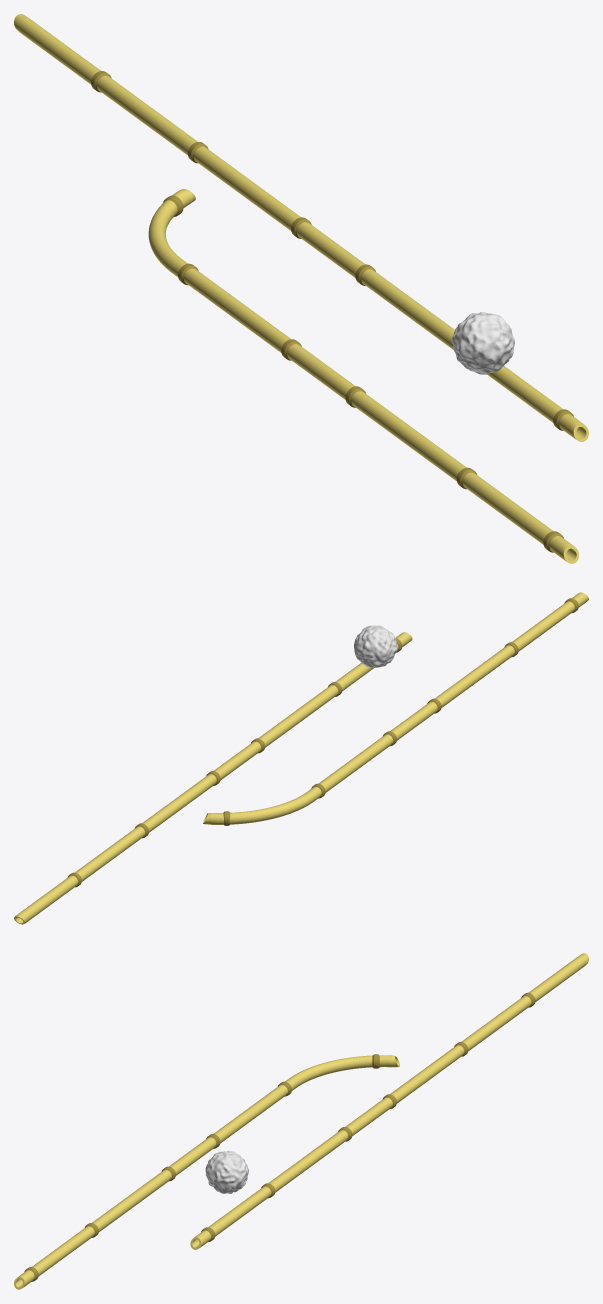
File: Rails.fbx
3 renders of one model, top to bottom at view 1: azimuth 30°, elevation 25°; view 2: azimuth 150°, elevation 25°; view 3: azimuth 330°, elevation 25°, orthographic. The views are drawn at different scales.
Parts seen in each view (by area): view 1: Cylinder, Cylinder.007, Boulder; view 2: Cylinder, Cylinder.007, Boulder; view 3: Cylinder, Cylinder.007, Boulder.
Boxes of the visible parts, x1,y1,x2,y2 form: Cylinder: [14, 14, 588, 441]; Cylinder.007: [148, 189, 578, 563]; Boulder: [451, 312, 514, 374]; Cylinder: [14, 632, 412, 924]; Cylinder.007: [203, 592, 588, 824]; Boulder: [354, 625, 397, 667]; Cylinder: [190, 953, 588, 1249]; Cylinder.007: [14, 1055, 399, 1289]; Boulder: [205, 1150, 248, 1193].
Bounding box in the file's own units: 575 × 297 × 4543.
